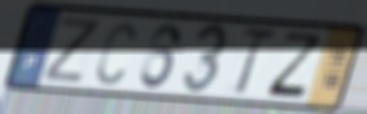3: (181, 20, 231, 99)
6: (139, 22, 182, 91)
C: (94, 19, 138, 87)
T: (232, 27, 279, 98)
Z: (40, 15, 104, 86), (263, 30, 326, 101)
